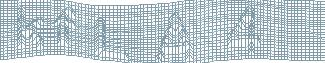4: (226, 5, 262, 58)
A: (153, 10, 199, 63)
L: (93, 17, 130, 62)
f: (52, 6, 77, 49)
k: (15, 4, 45, 52)
